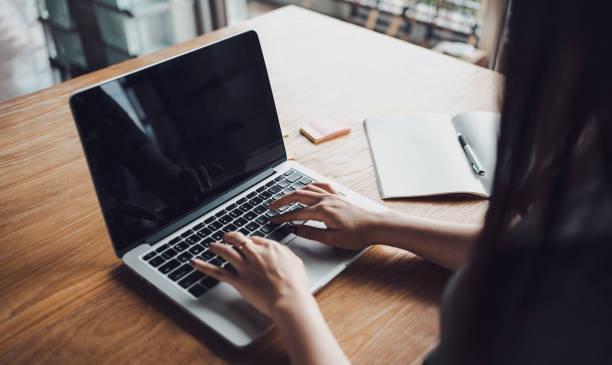keyboard: (142, 167, 338, 300)
laptop: (67, 28, 393, 349)
screen: (71, 30, 287, 255)
